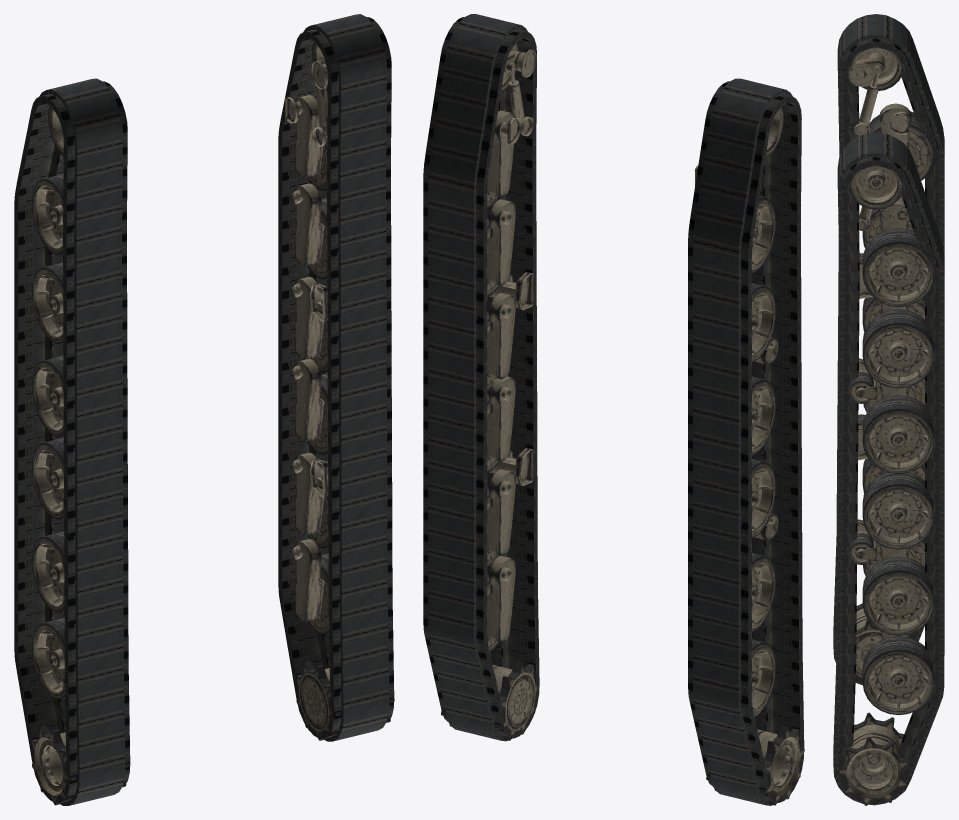
File: Chassis.glb
3 renders of one model, left to right at view 1: azimuth 30°, elevation 25°; view 2: azimuth 150°, elevation 25°; view 3: azimuth 270°, elevation 25°, orthographic. The views are drawn at different scales.
Parts seen in each view (by area): view 1: set_1_group_0, set_0_group_0, set_3_group_0, set_2_group_0; view 2: set_1_group_0, set_0_group_0, set_3_group_0, set_2_group_0; view 3: set_3_group_0, set_0_group_0, set_2_group_0, set_1_group_0.
Boxes of the visible parts, x1,y1,x2,y2 form: set_1_group_0: (14, 78, 130, 805); set_0_group_0: (278, 14, 394, 741); set_3_group_0: (285, 42, 394, 740); set_2_group_0: (32, 106, 130, 805); set_1_group_0: (688, 78, 804, 805); set_0_group_0: (423, 14, 539, 741); set_3_group_0: (441, 42, 537, 740); set_2_group_0: (695, 106, 804, 805); set_3_group_0: (836, 166, 933, 805); set_0_group_0: (833, 132, 944, 805); set_2_group_0: (836, 48, 933, 678); set_1_group_0: (833, 14, 944, 685).
Size of the model in its own units: 3.17 by 6.58 by 1.02.
Materials: 4 (4 with a texture image).
